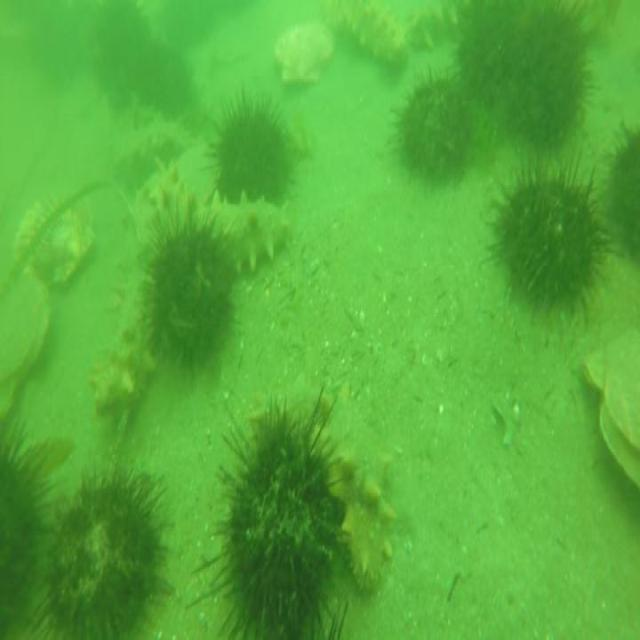echinus: (203, 398, 353, 640), (31, 458, 172, 640), (490, 141, 612, 330), (489, 2, 599, 156), (143, 205, 237, 373), (0, 409, 51, 629), (391, 71, 477, 190), (210, 103, 295, 202), (606, 115, 640, 264), (138, 30, 191, 125)
holothurian: (252, 365, 393, 589), (92, 177, 162, 422), (179, 190, 293, 266), (330, 0, 408, 74), (409, 2, 462, 52)
scallop: (584, 314, 640, 500), (14, 190, 100, 289), (0, 268, 50, 418), (273, 19, 337, 87)
